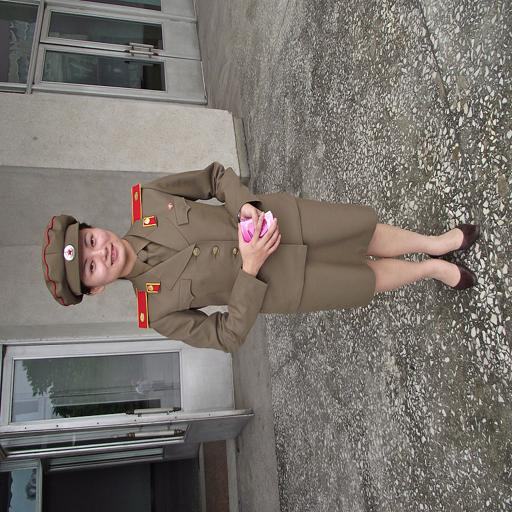north army: (26, 148, 512, 372)
